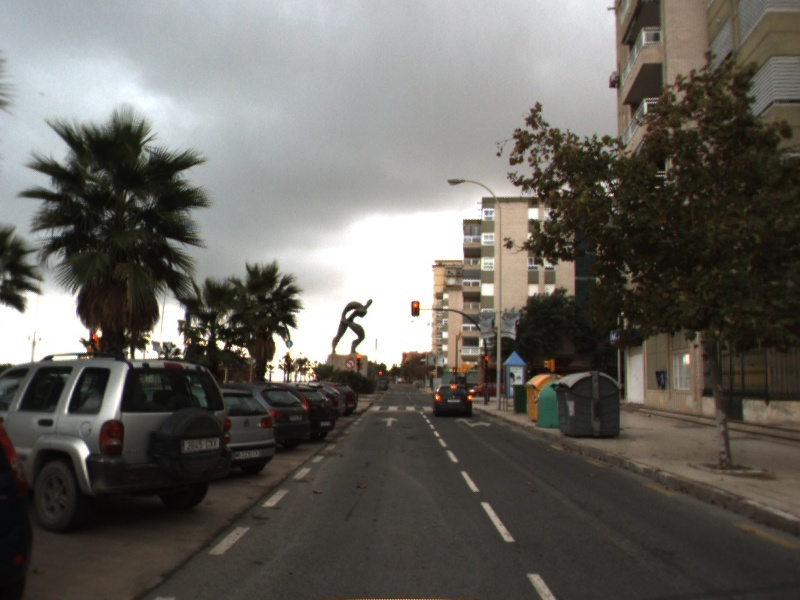STRAIGHT: (380, 415, 401, 428)
STRAIGHT_RIGHT: (453, 416, 494, 429)
